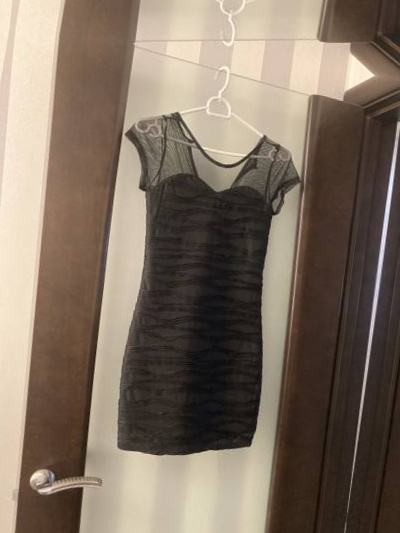Dress: (78, 103, 336, 486), (141, 0, 399, 11)
